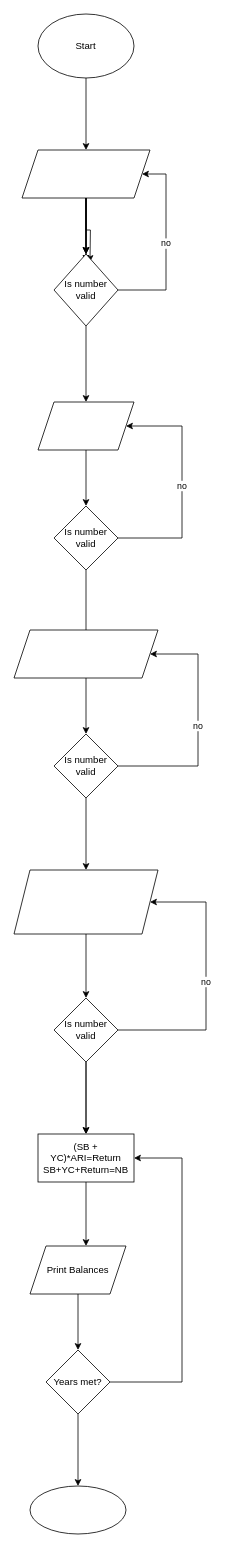
Image size: 226x1548. Some labels were removed from this diagram. Here are the shapes that lost their labels. From the top down, the centre of each, then its label:
At point (85, 173): "Enter starting balance".
At point (85, 425): "Enter Yearly Contribution".
At point (85, 653): "Enter Averge Return on investment as a %".
At point (85, 901): "Enter Number of years for the report".
